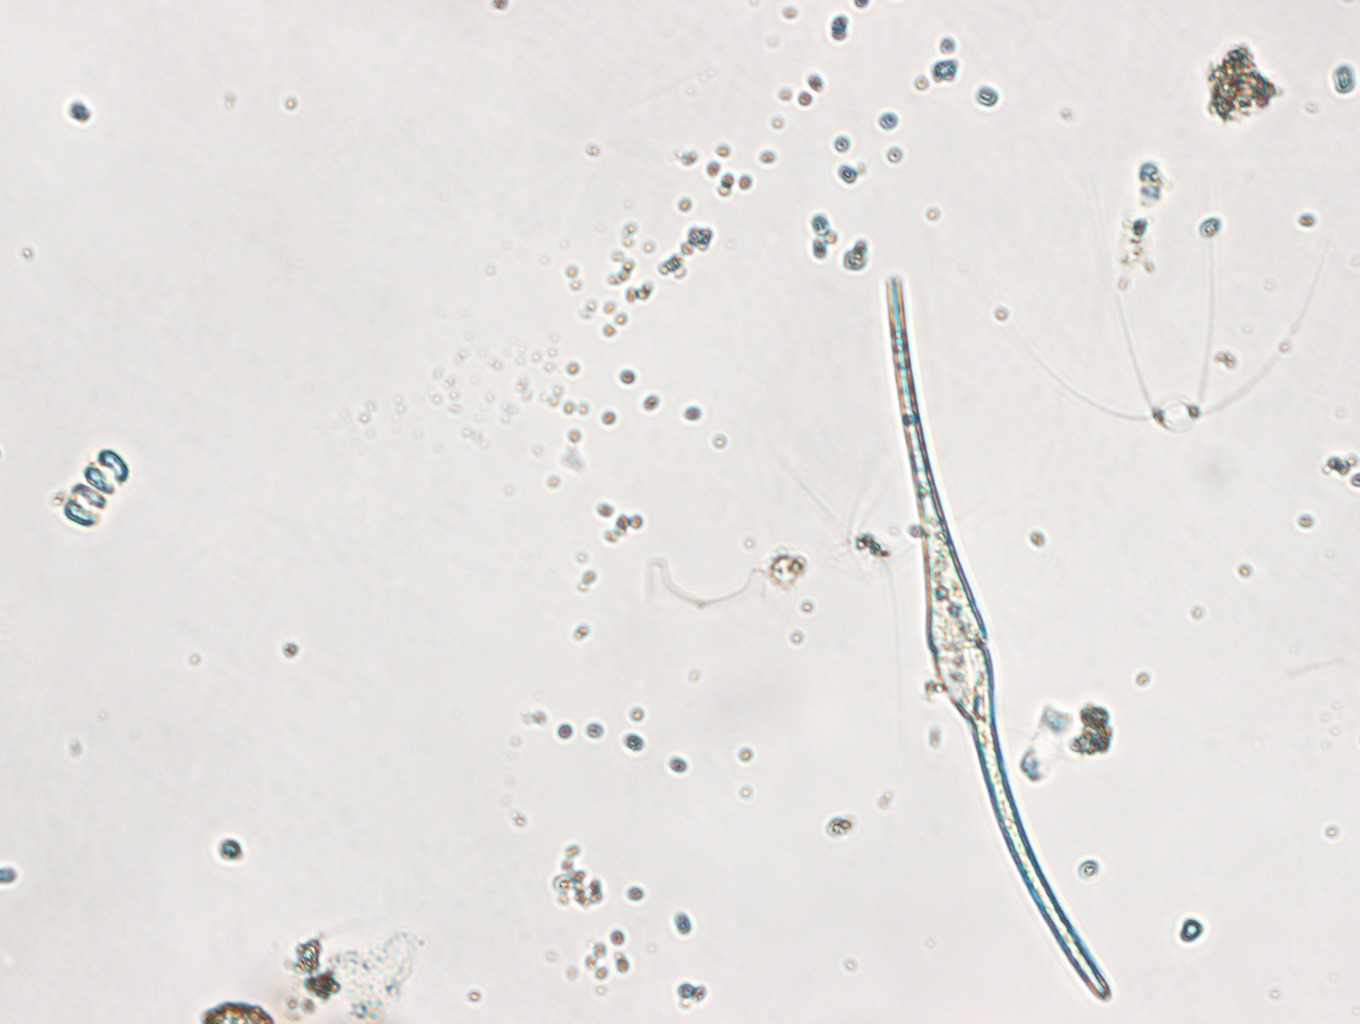ceratium fusus: (881, 270, 1114, 1001)
chaetoceros: (1003, 177, 1330, 430)
skeletonema: (62, 444, 131, 530)
